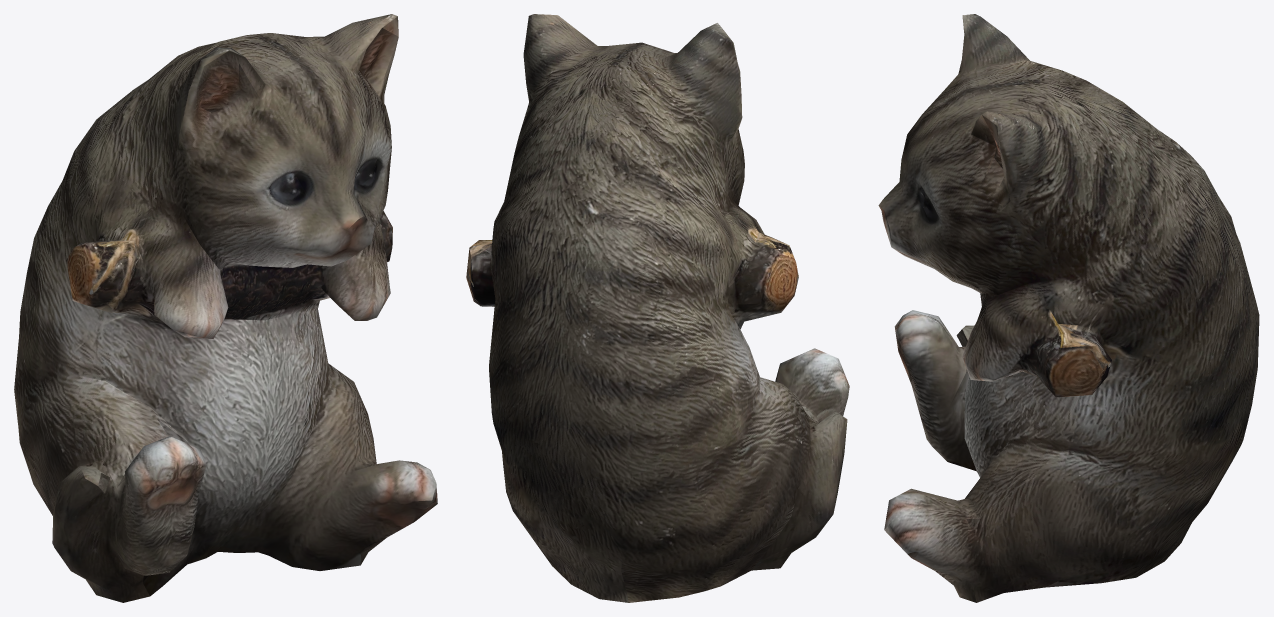
Rendered from kitten_grey.glb.
The picture shows the model from 3 angles, left to right: view 1: azimuth 30°, elevation 25°; view 2: azimuth 150°, elevation 25°; view 3: azimuth 270°, elevation 25°; orthographic projection. The views are drawn at different scales.
Parts seen in each view (by area): view 1: geo1; view 2: geo1; view 3: geo1.
Part boxes in pixels (box(x1,y1,x2,y2)): geo1: box(14, 14, 437, 602); geo1: box(466, 14, 849, 602); geo1: box(878, 14, 1259, 602).
Size of the model in its own units: 0.00104 by 0.00149 by 0.000982.
1 material, 1 textured.
